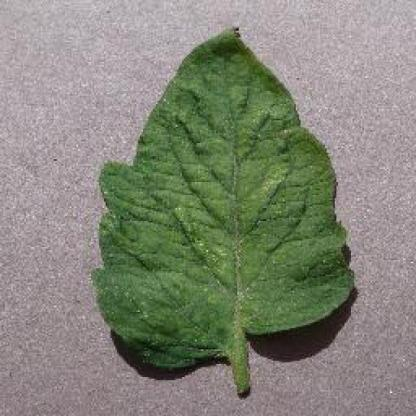Tomato_Spider_Mites: (98, 28, 354, 357)
